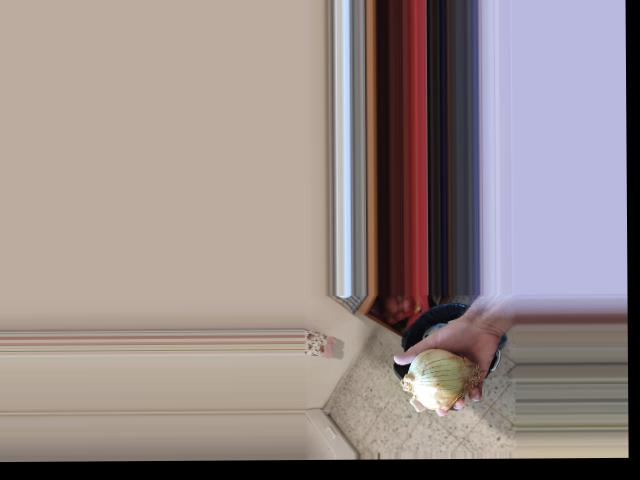onion: (404, 346, 480, 407)
